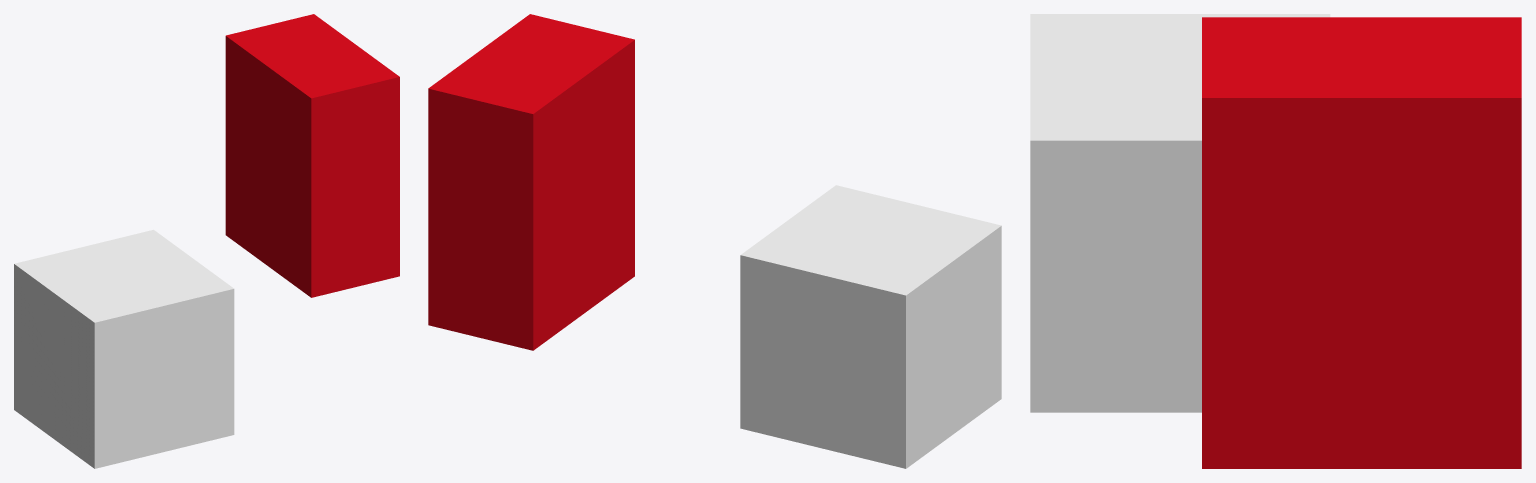
Rendered from trenComp2.glb.
3 renders of one model, left to right at view 1: azimuth 30°, elevation 25°; view 2: azimuth 150°, elevation 25°; view 3: azimuth 270°, elevation 25°, orthographic. The views are drawn at different scales.
Visible parts, largest first — view 1: Cube, Cube.001; view 2: Cube, Cube.001; view 3: Cube.001, Cube.
Part boxes in pixels (left/top/right/bottom): Cube: left=14, top=229, right=234, bottom=468; Cube.001: left=225, top=14, right=399, bottom=297; Cube: left=740, top=185, right=1001, bottom=468; Cube.001: left=428, top=14, right=634, bottom=350; Cube.001: left=1202, top=17, right=1521, bottom=468; Cube: left=1030, top=14, right=1330, bottom=412.
Size of the model in its own units: 5.03 by 3.73 by 3.28.
